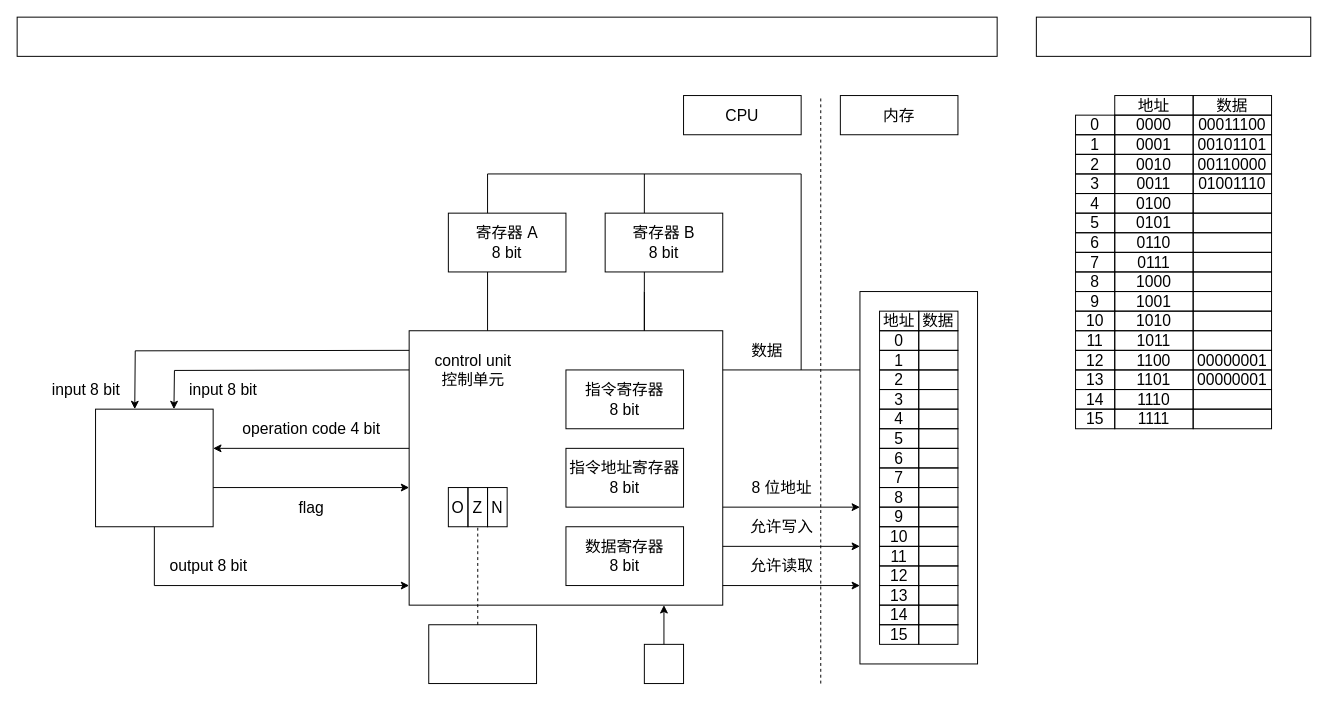
The diagram is 1328 pixels wide and 702 high, and some of its shapes have lost their labels. Each missing label, with the centre of its shape:
"ALU" goes at (154,467).
"CPU 和内存" goes at (506,36).
"overflow 1 bit zero 1 bit negative 1 bit" goes at (482,654).
"时钟" goes at (663,663).
"程序在内存中的样子" goes at (1173,36).
